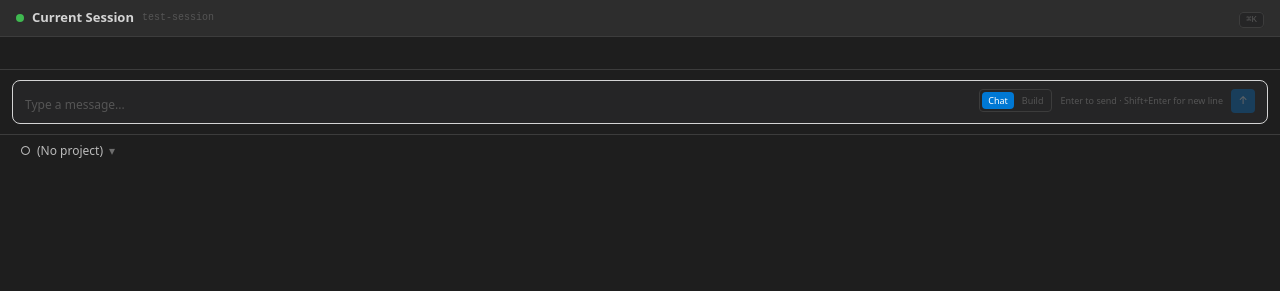
Test: ChatView › Build 토글 후 전송 → postMessage 6번째 인자 build
Click the button with test id "mode-toggle-build" at [1033, 101], box [1016, 92, 1049, 109]
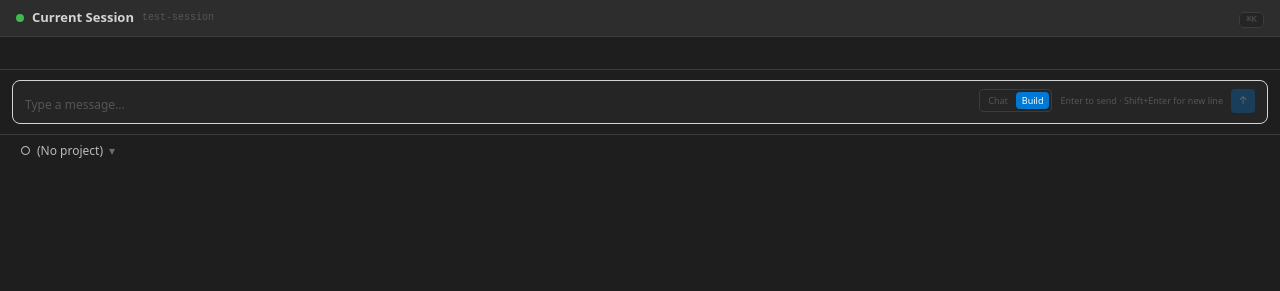
Type "build app" into the text box with test id "message-input" at [498, 104], box [25, 94, 971, 114]
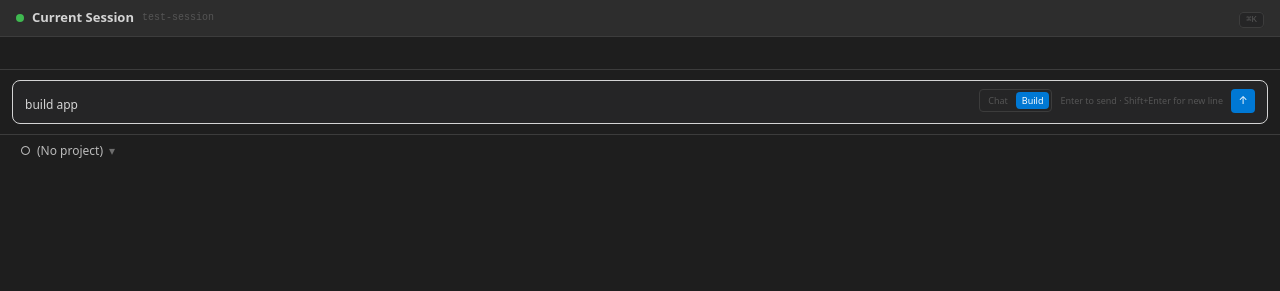
Click the button with test id "message-send-button" at [1243, 100], box [1231, 88, 1255, 112]
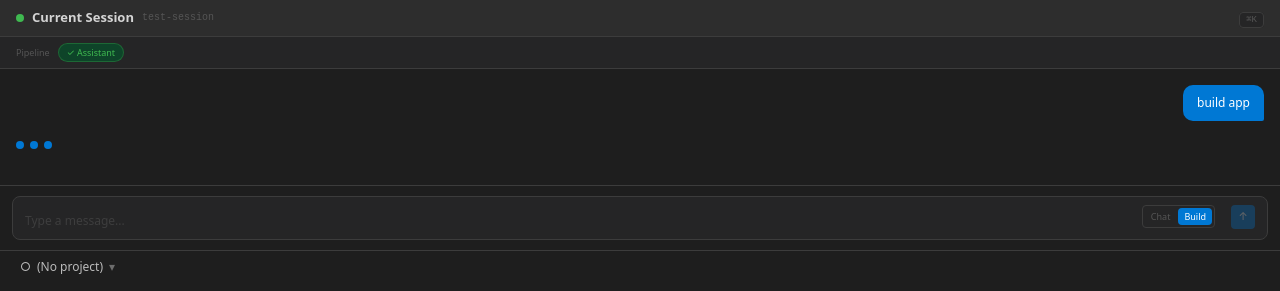
Expected: the text "build app" is shown, [1183, 85, 1264, 120]
